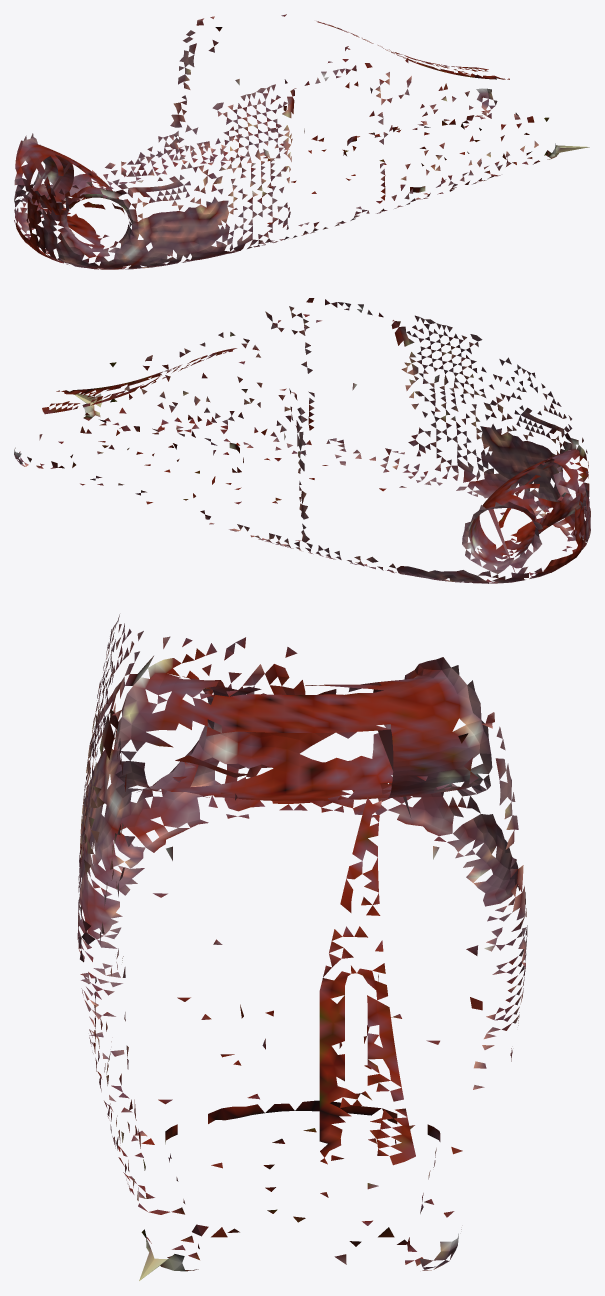
3 renders of one model, top to bottom at view 1: azimuth 30°, elevation 25°; view 2: azimuth 150°, elevation 25°; view 3: azimuth 270°, elevation 25°, orthographic. The views are drawn at different scales.
Bounding box in the file's own units: 2.01 × 0.5749 × 0.7484.
